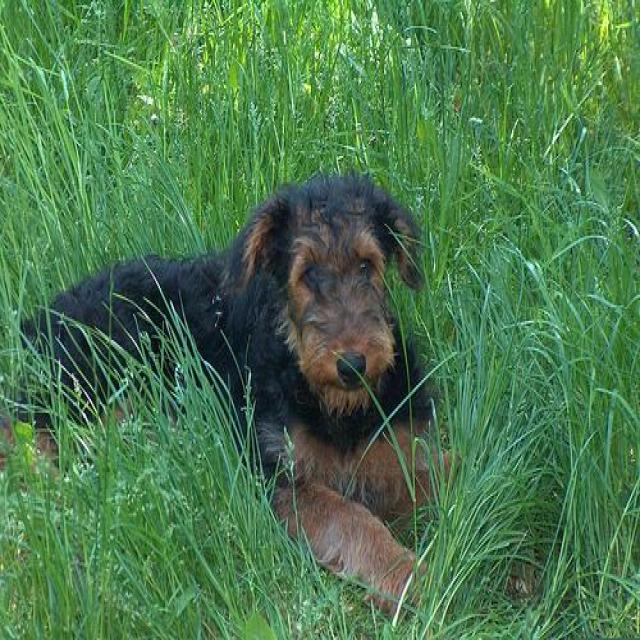airedale: (18, 179, 543, 619)
